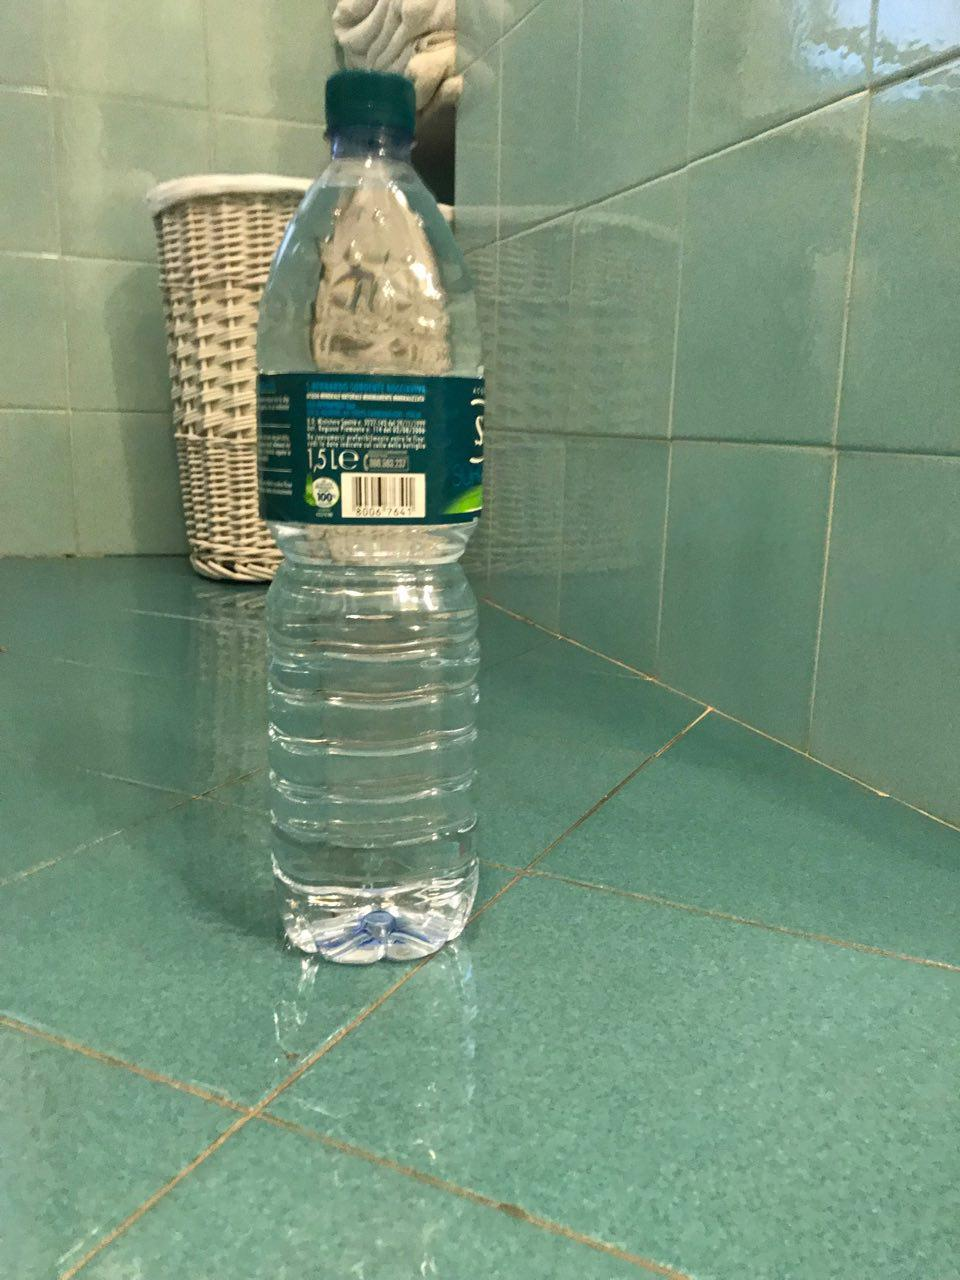san_bernardo: (254, 70, 486, 967)
